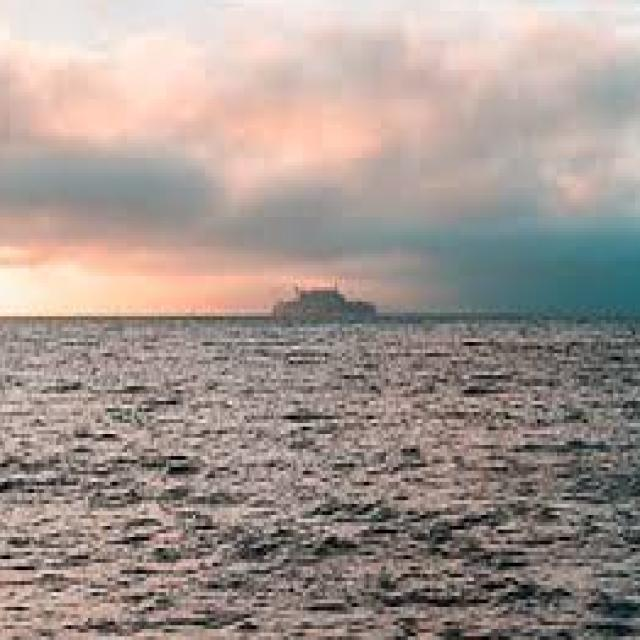fishing boat: (273, 264, 379, 334)
